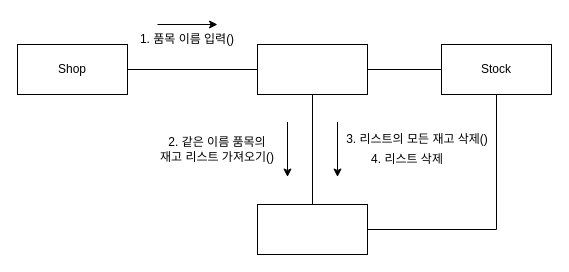
The diagram is 569 pixels wide and 272 high, and some of its shapes have lost their labels. Here are the shapes that lost their labels. From the top down, the box of each, then its label:
(256, 44, 368, 94): Inventory
(256, 204, 368, 254): Product
